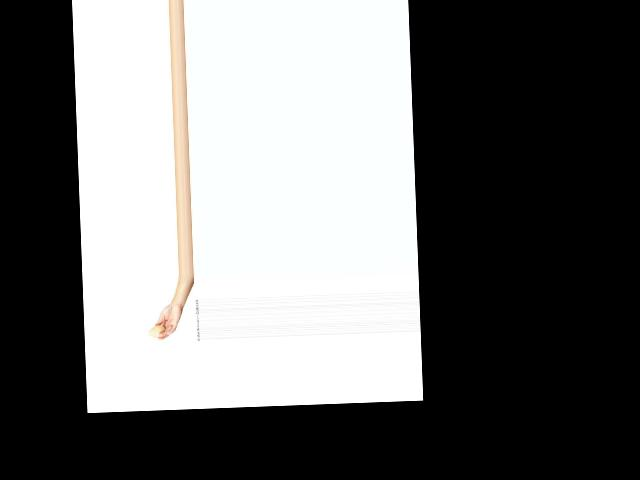egg: (148, 324, 166, 337)
